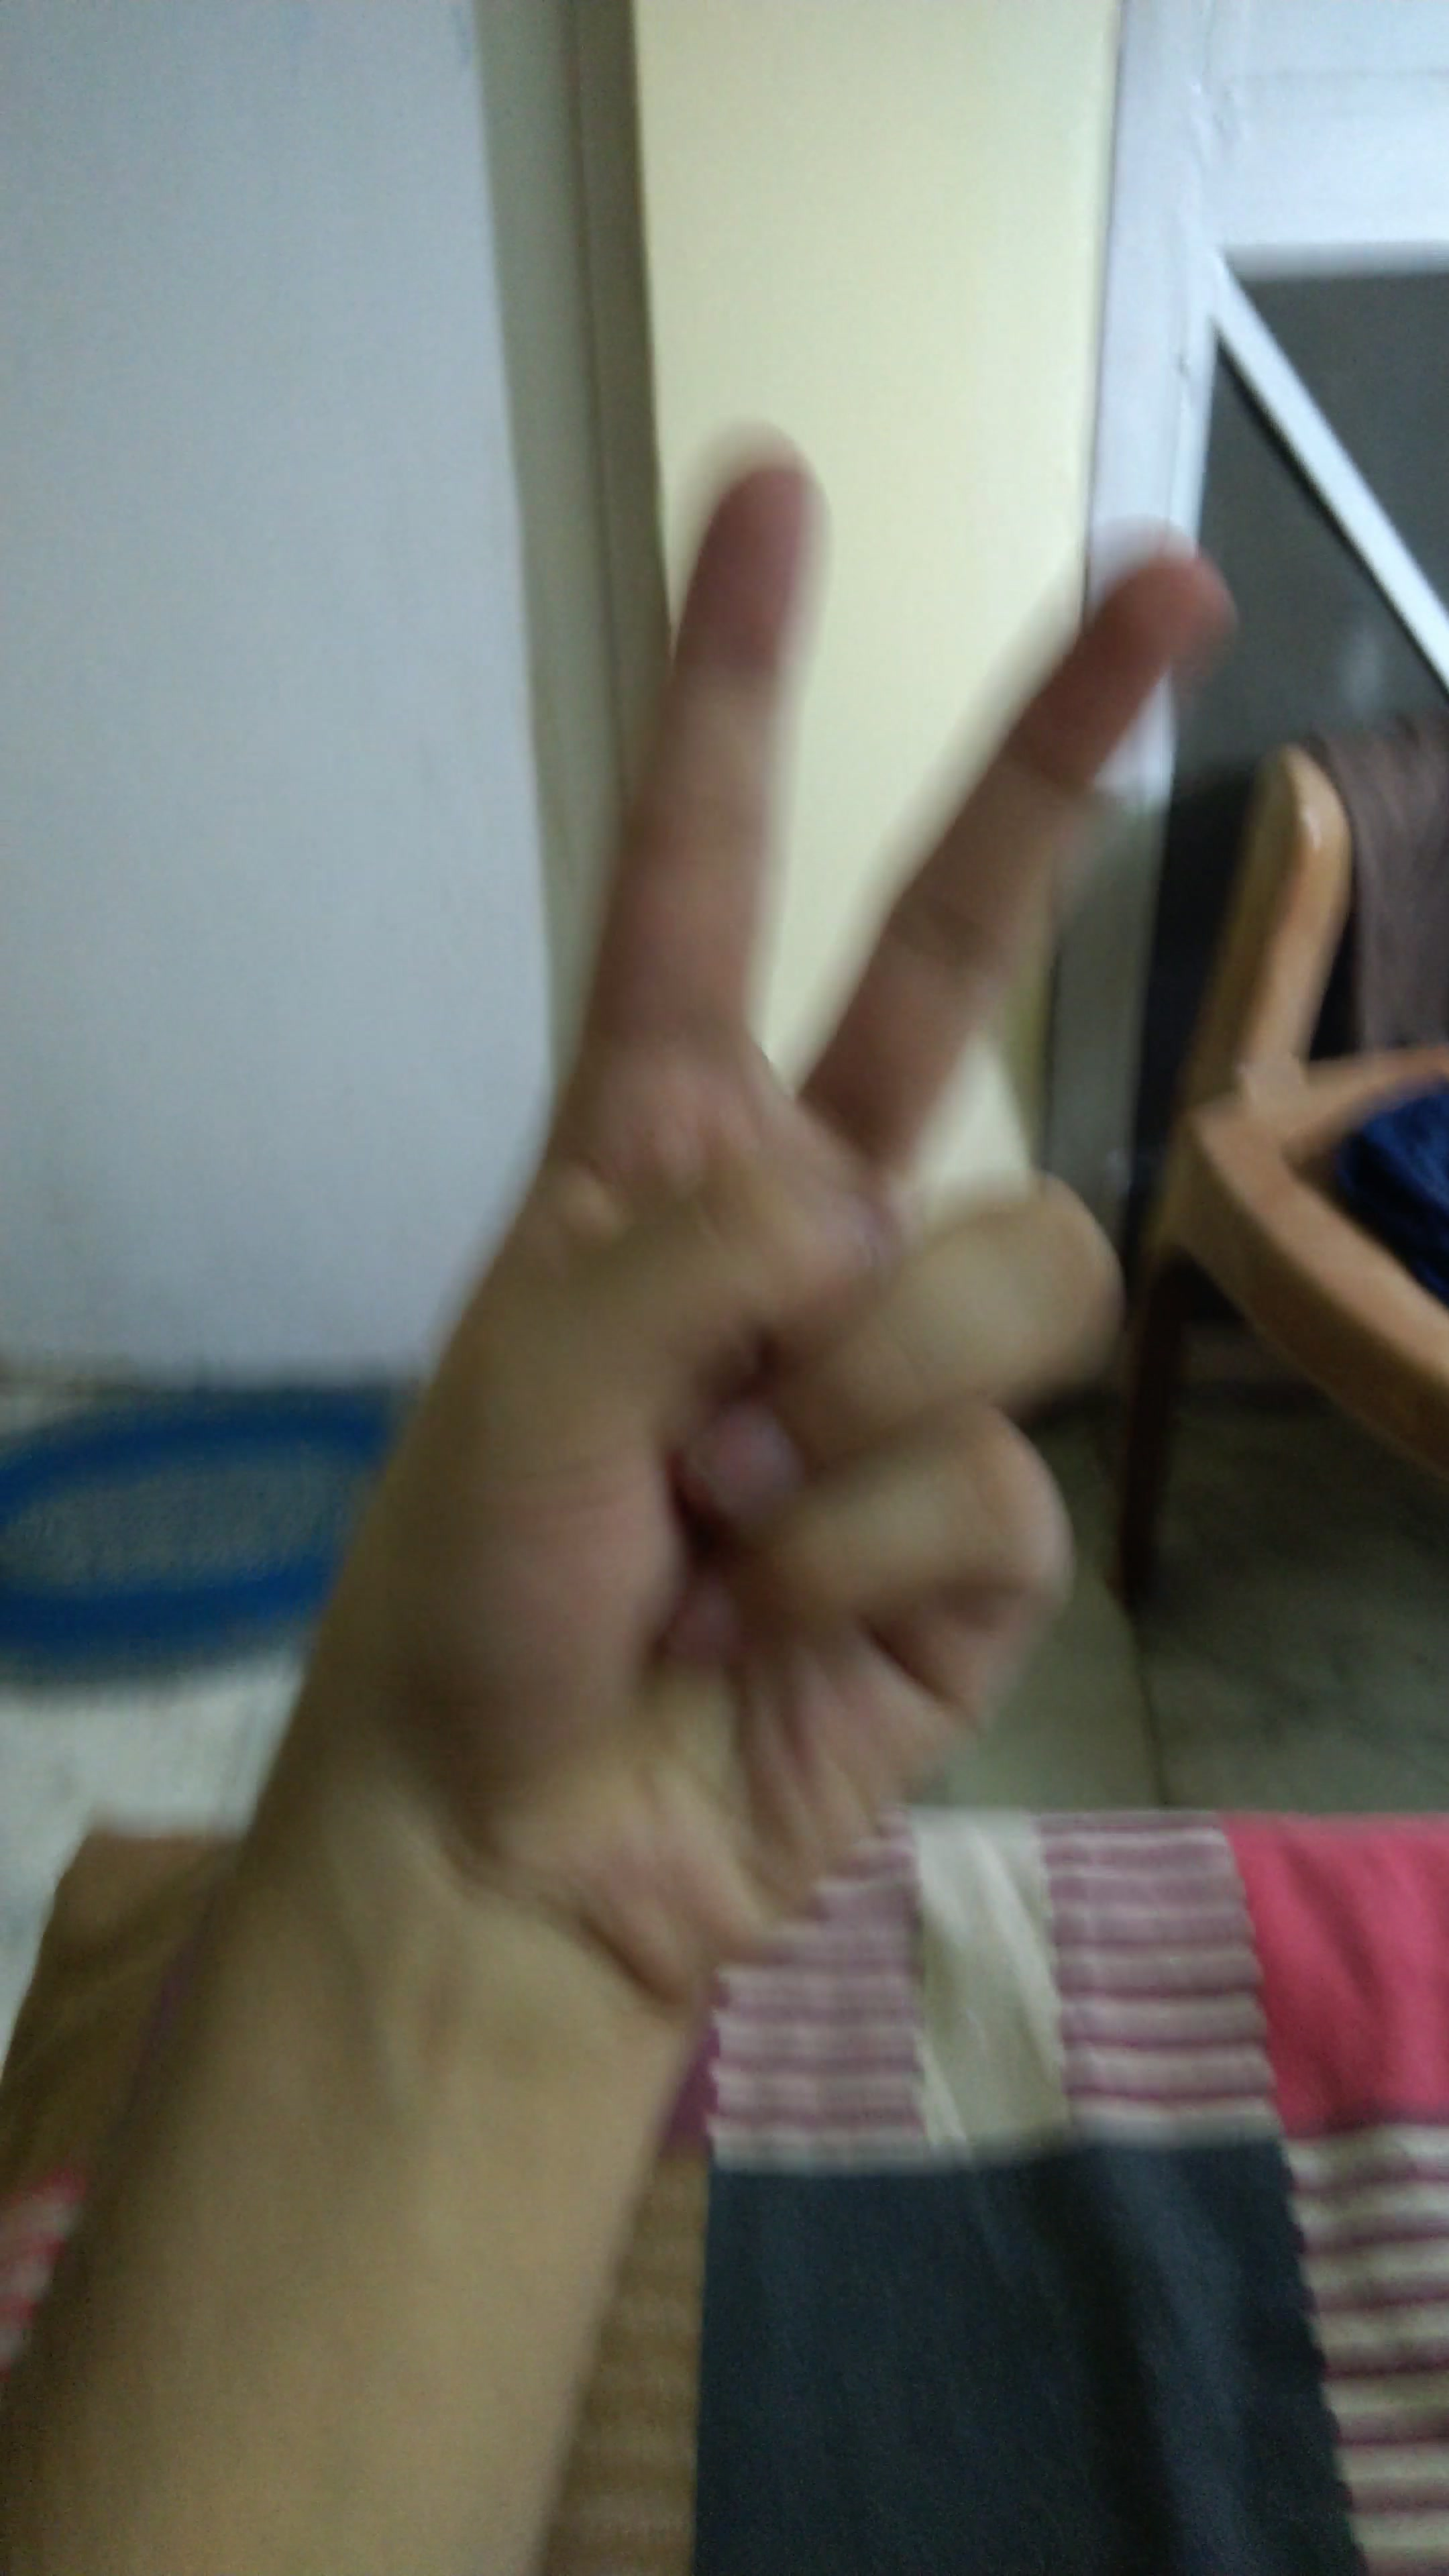hand: (156, 393, 1246, 2040)
